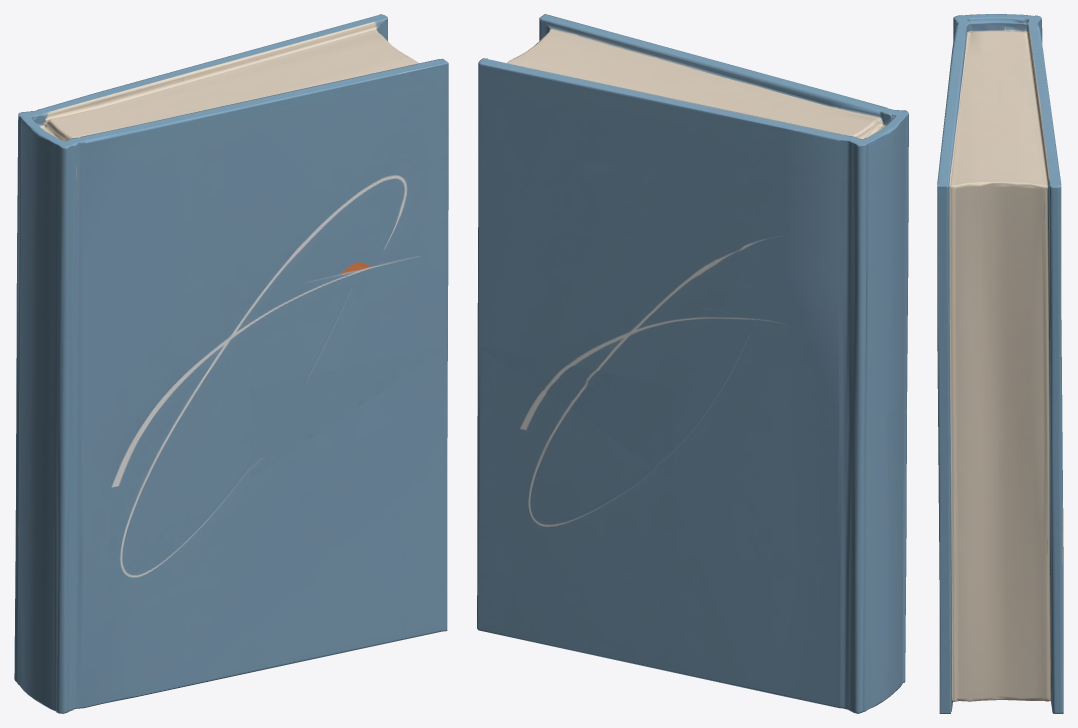
Rendered from where-is-my-flying-car.glb.
3 renders of one model, left to right at view 1: azimuth 30°, elevation 25°; view 2: azimuth 150°, elevation 25°; view 3: azimuth 270°, elevation 25°, orthographic. The views are drawn at different scales.
Parts seen in each view (by area): view 1: Where Is My Flying Car?; view 2: Where Is My Flying Car?; view 3: Where Is My Flying Car?.
Part boxes in pixels (bbox=[...]): Where Is My Flying Car?: bbox=[14, 14, 448, 713]; Where Is My Flying Car?: bbox=[477, 14, 908, 713]; Where Is My Flying Car?: bbox=[937, 14, 1063, 713].
Size of the model in its own units: 0.7012 by 0.998 by 0.2168.
1 material, 1 textured.
